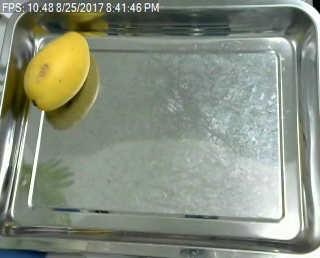Mango: (23, 31, 94, 114)
